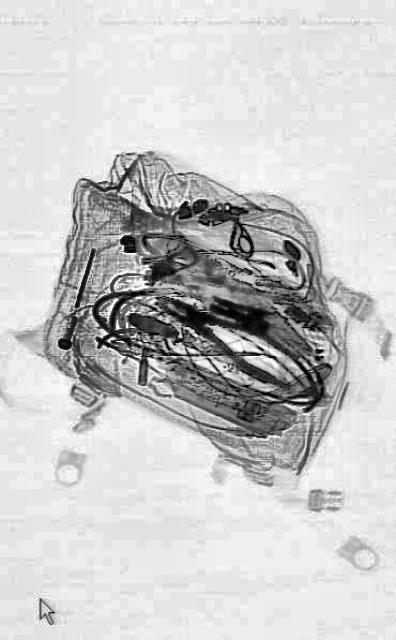Pliers: (148, 269, 298, 397)
